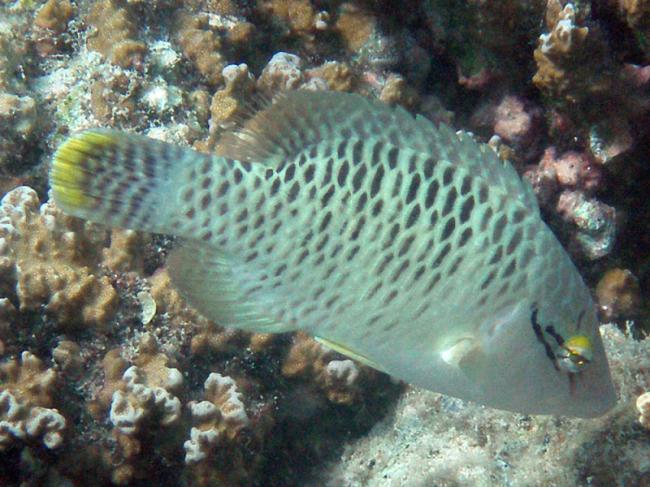fish: (52, 88, 618, 418)
